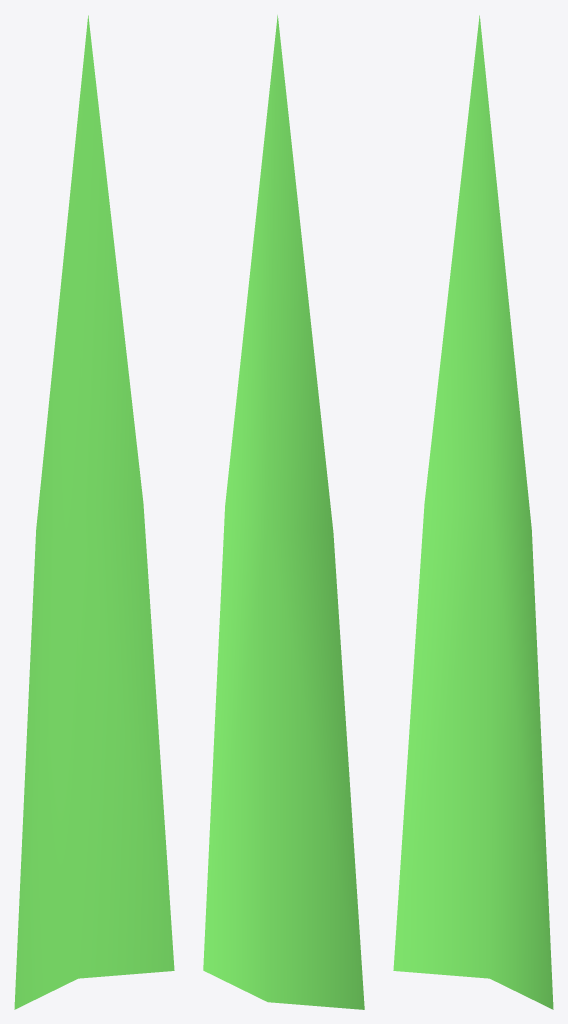
The model's file is GrassBlade_model_bended_opt_newnormal.fbx.
The picture shows the model from 3 angles, left to right: view 1: azimuth 30°, elevation 25°; view 2: azimuth 150°, elevation 25°; view 3: azimuth 330°, elevation 25°; orthographic projection.
Visible parts, largest first — view 1: Blade_FixedNormals; view 2: Blade_FixedNormals; view 3: Blade_FixedNormals.
Boxes of the visible parts, x1,y1,x2,y2 form: Blade_FixedNormals: [14, 15, 174, 1009]; Blade_FixedNormals: [203, 15, 364, 1009]; Blade_FixedNormals: [393, 15, 553, 1009].
Size of the model in its own units: 0.0196 by 0.1119 by 0.6494.
